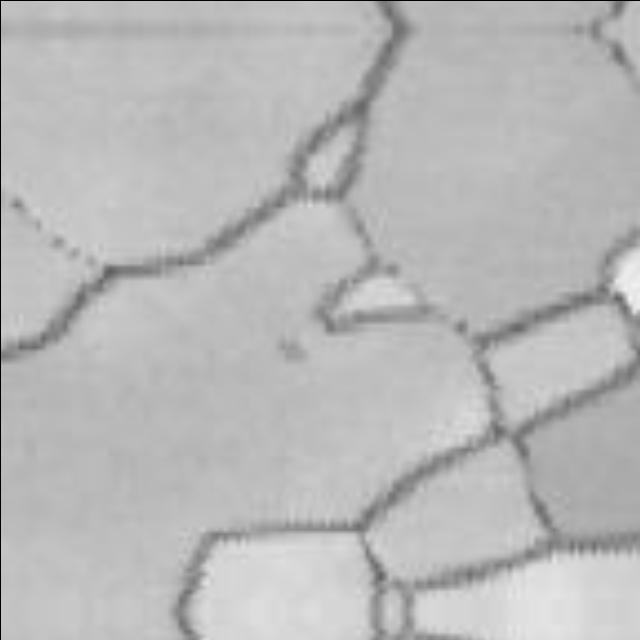good_void: (268, 332, 311, 361)
